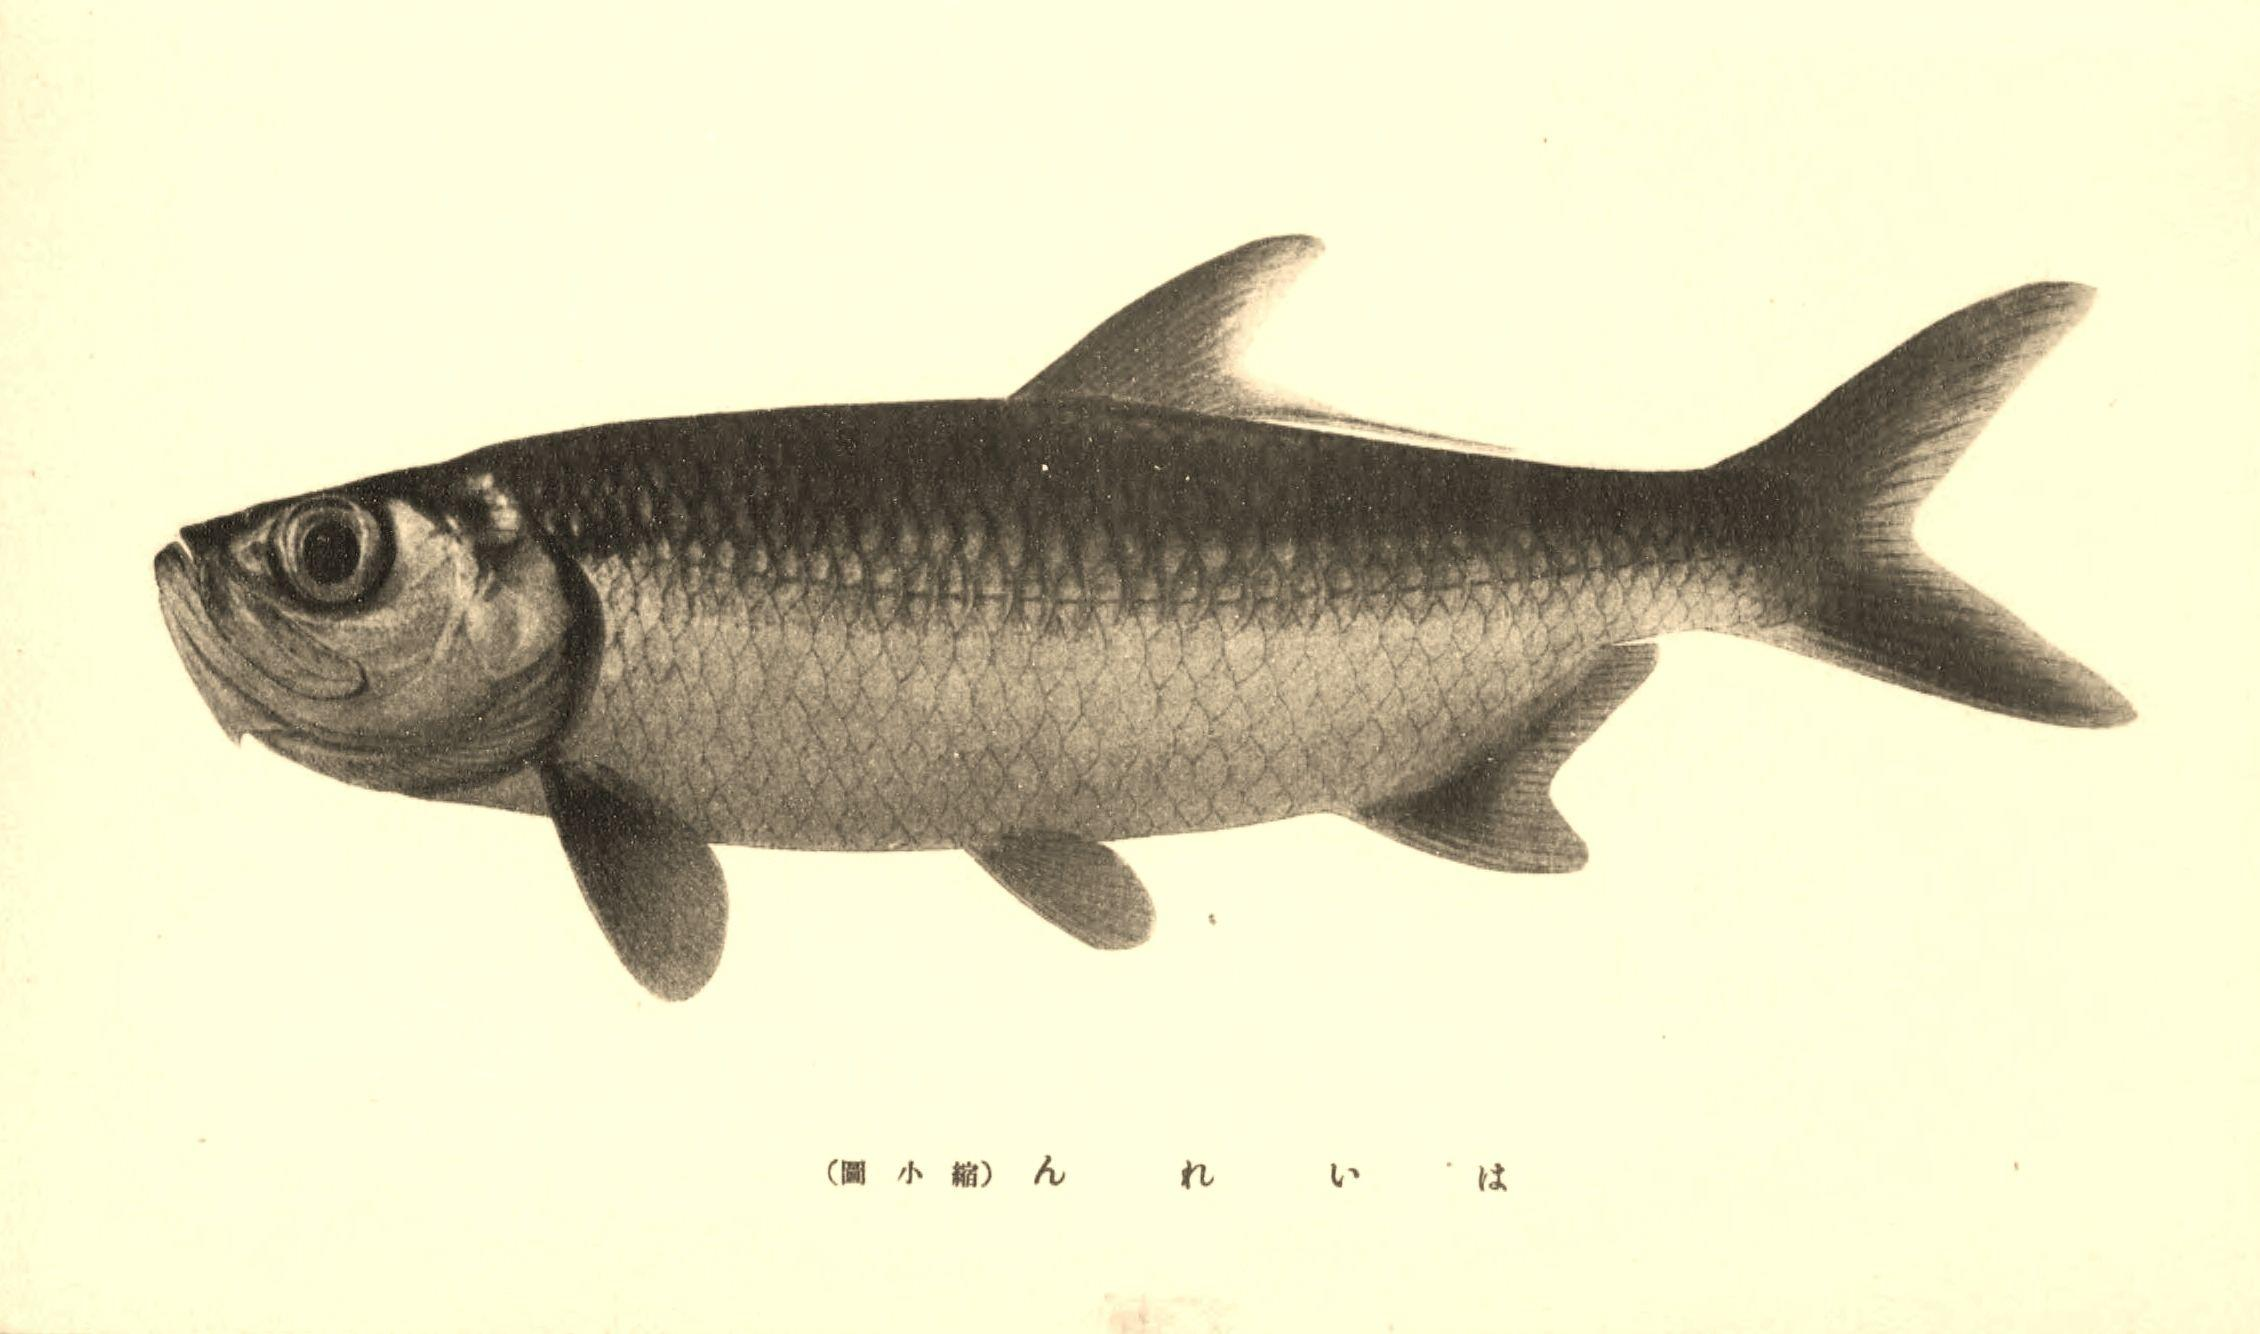Indo-Pacific Tarpon: (157, 221, 2157, 1004)
